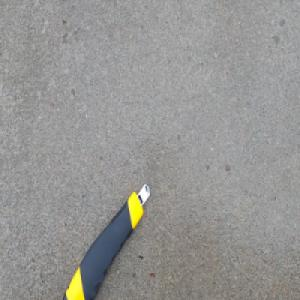Cutter: (62, 181, 153, 299)
